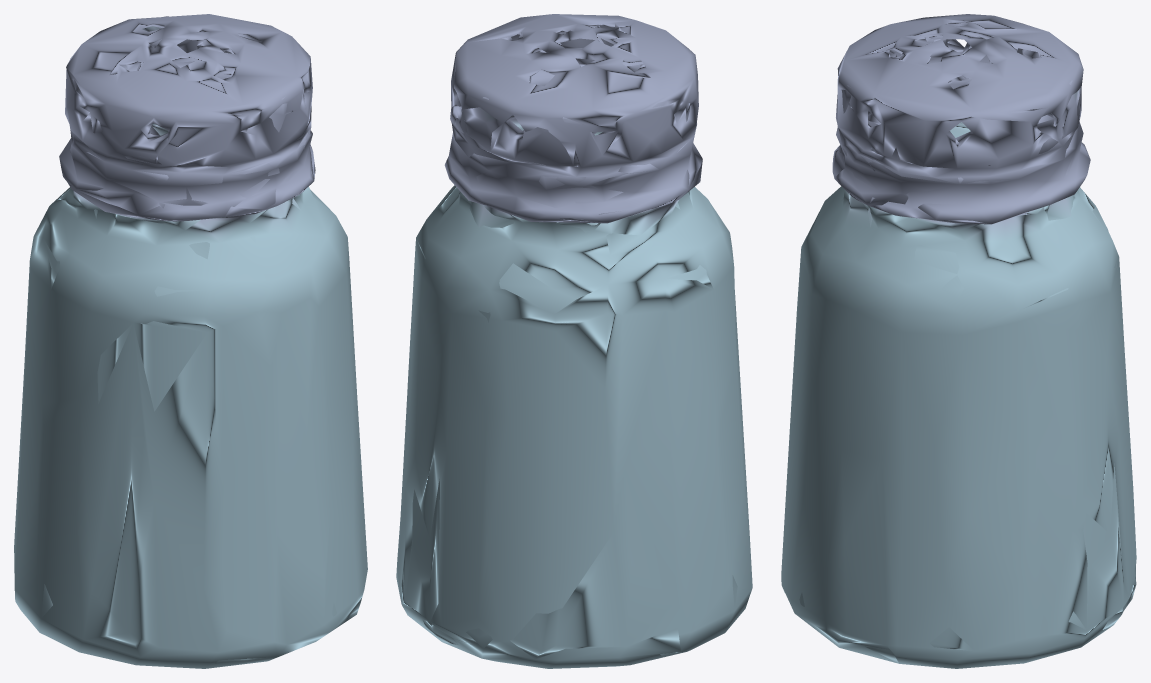
File: gen3d-salt-shaker-lod0.glb
3 renders of one model, left to right at view 1: azimuth 30°, elevation 25°; view 2: azimuth 150°, elevation 25°; view 3: azimuth 270°, elevation 25°, orthographic.
Visible parts, largest first — view 1: part_0; view 2: part_0; view 3: part_0.
Part boxes in pixels (box(x1,y1,x2,y2)): part_0: box(14, 14, 367, 668); part_0: box(396, 14, 752, 668); part_0: box(781, 14, 1136, 668).
Bounding box in the file's own units: 0.58 × 0.9997 × 0.5776.
